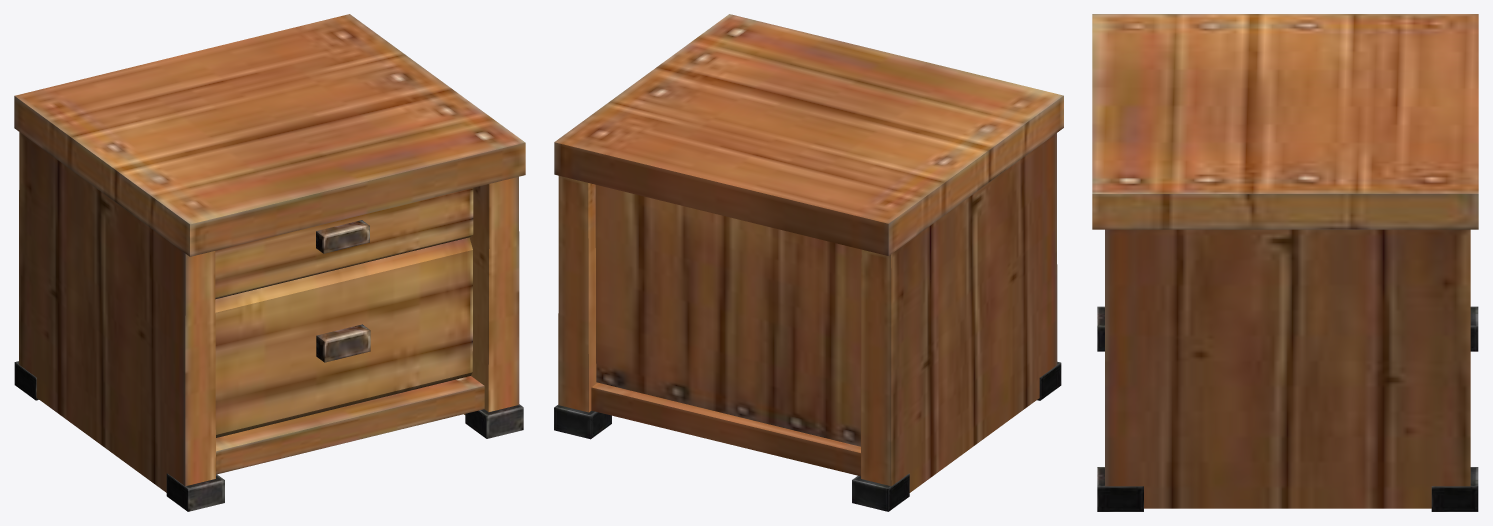
The model's file is SM_cupboard_06.gltf.
3 renders of one model, left to right at view 1: azimuth 30°, elevation 25°; view 2: azimuth 150°, elevation 25°; view 3: azimuth 270°, elevation 25°, orthographic. The views are drawn at different scales.
Parts seen in each view (by area): view 1: SM_cupboard_06; view 2: SM_cupboard_06; view 3: SM_cupboard_06.
Boxes of the visible parts, x1,y1,x2,y2 form: SM_cupboard_06: (14, 14, 525, 511); SM_cupboard_06: (554, 14, 1063, 511); SM_cupboard_06: (1092, 14, 1478, 511).
Bounding box in the file's own units: 0.8418 × 0.6931 × 0.7634.
Materials: 1 (1 with a texture image).
